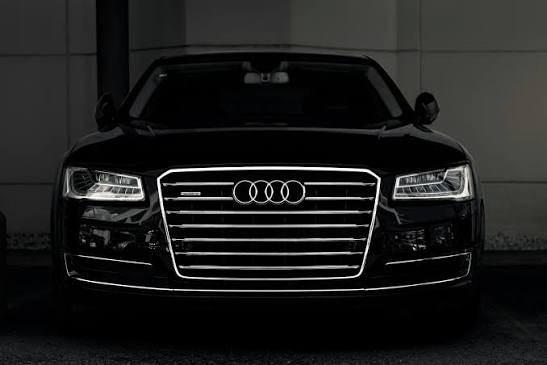car: (49, 41, 490, 333)
